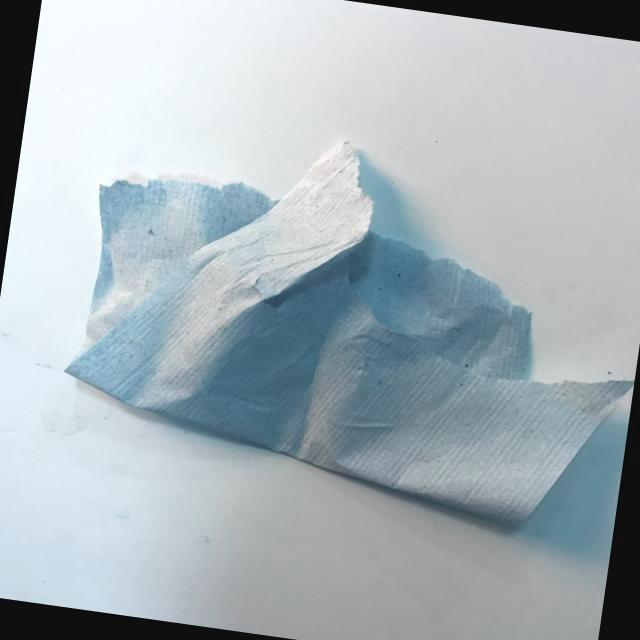paper: (39, 82, 640, 570)
